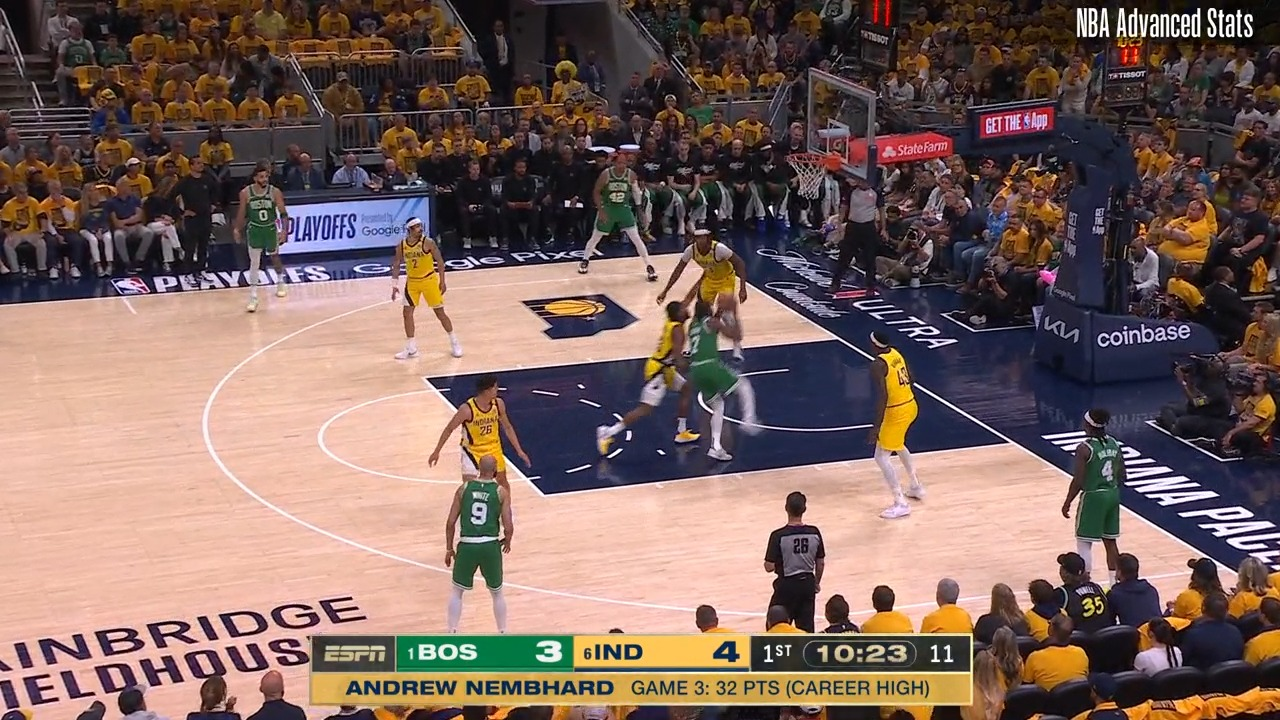basketball: (714, 289, 741, 313)
